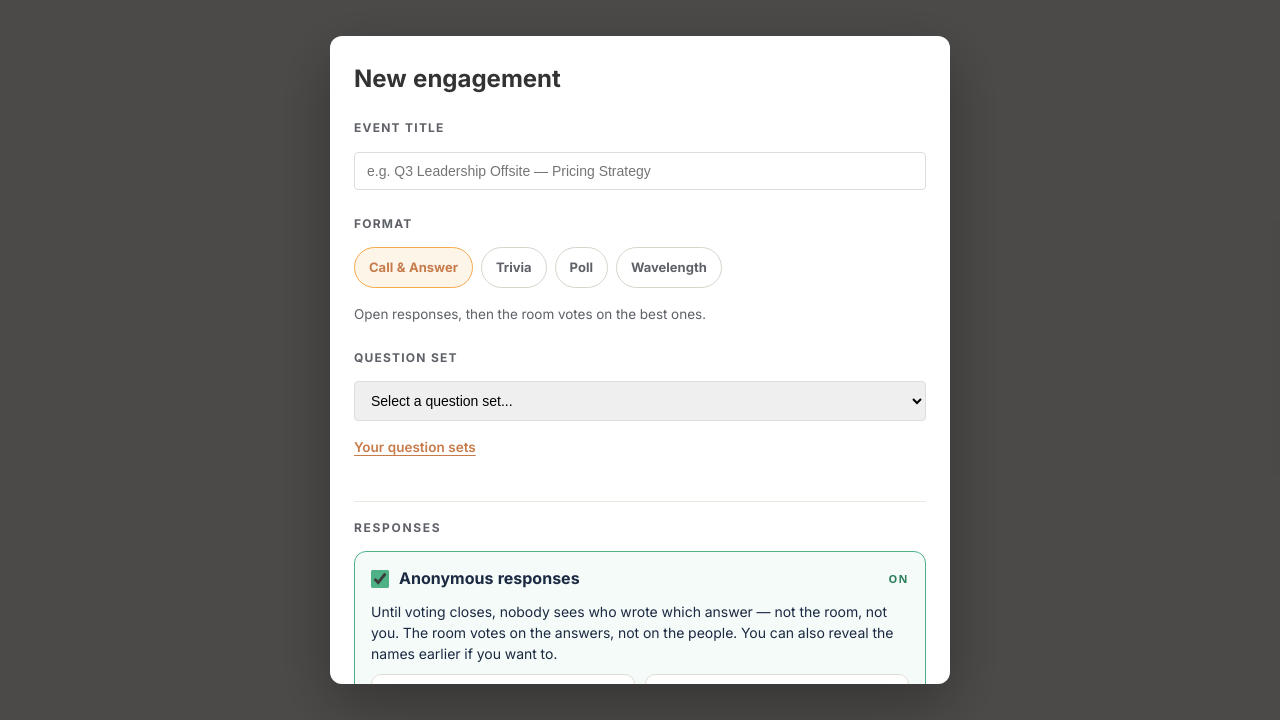
Test: the question set › shows the category grid only once a set is chosen
Select "Strategic Pricing Plays (47 questions)" in the dropdown labelled "Question set" at coordinates (640, 401), box [354,381,926,421]
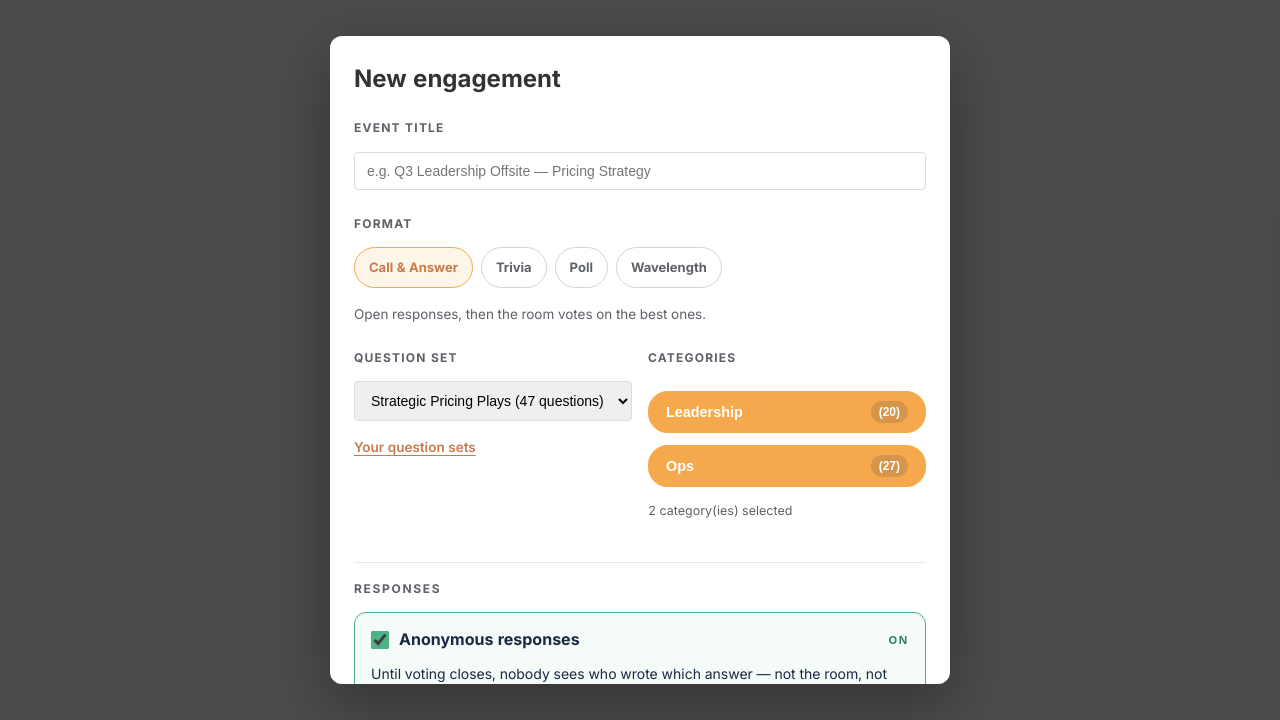
expect the text "Leadership" is shown: met, box [666,404,743,420]
